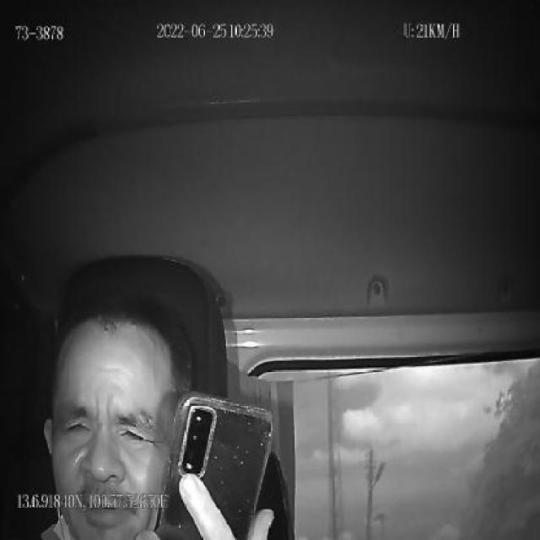phone: (154, 394, 275, 540)
